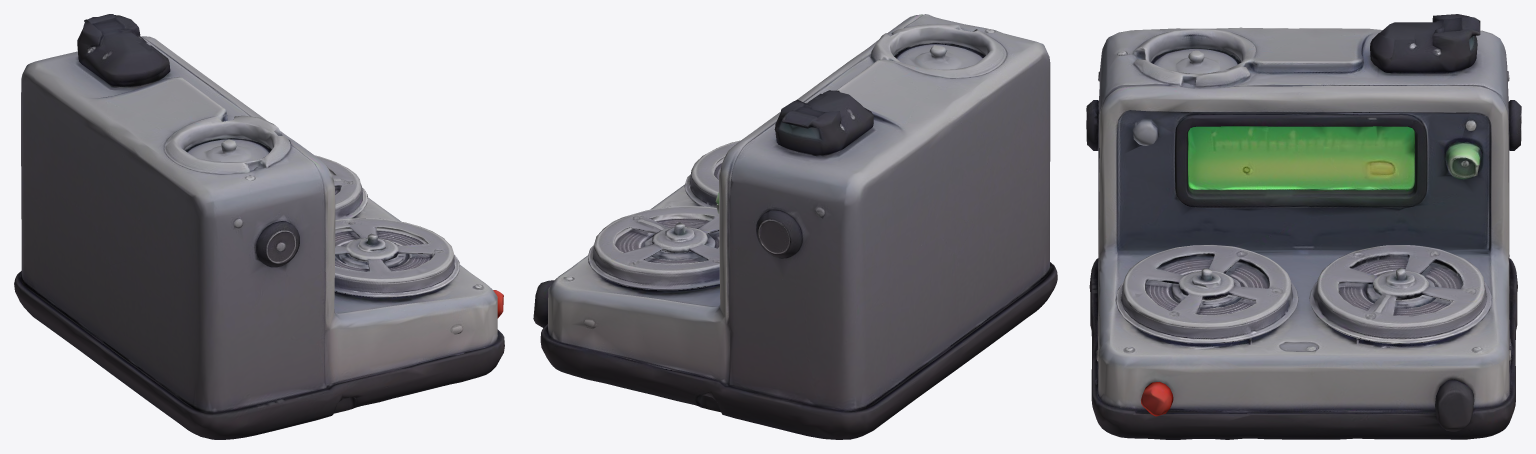
The model's file is echo_chamber.glb.
The picture shows the model from 3 angles, left to right: view 1: azimuth 30°, elevation 25°; view 2: azimuth 150°, elevation 25°; view 3: azimuth 270°, elevation 25°; orthographic projection. The views are drawn at different scales.
Visible parts, largest first — view 1: tripo_node_353d1e0f-239f-433b-8957-b539c9aa84fa; view 2: tripo_node_353d1e0f-239f-433b-8957-b539c9aa84fa; view 3: tripo_node_353d1e0f-239f-433b-8957-b539c9aa84fa.
Part boxes in pixels (x1,y1,x2,y2): tripo_node_353d1e0f-239f-433b-8957-b539c9aa84fa: (14, 14, 504, 439); tripo_node_353d1e0f-239f-433b-8957-b539c9aa84fa: (533, 14, 1057, 439); tripo_node_353d1e0f-239f-433b-8957-b539c9aa84fa: (1086, 14, 1521, 439).
Size of the model in its own units: 0.9052 by 0.7591 by 0.9784.
Materials: 1 (1 with a texture image).
